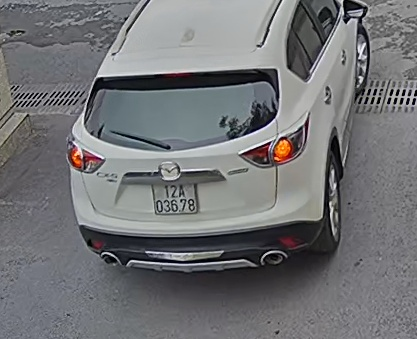vehicle plate: (148, 181, 195, 214)
